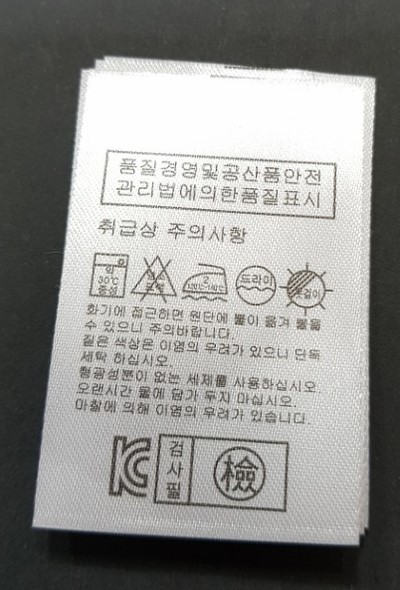KR_dry_clean: (233, 262, 280, 308)
KR_hang_dry_in_shade: (282, 265, 331, 313)
KR_iron_medium_temp_with_cloth: (182, 257, 232, 305)
KR_no_chlorine_bleach: (130, 252, 178, 302)
KR_wash_warm_30_neutral: (88, 249, 129, 301)
